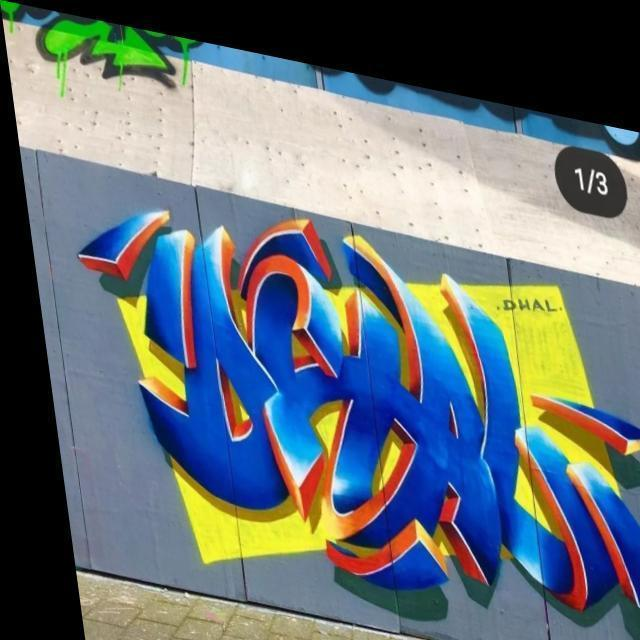nonspitting: (83, 205, 640, 621), (0, 0, 203, 83)
